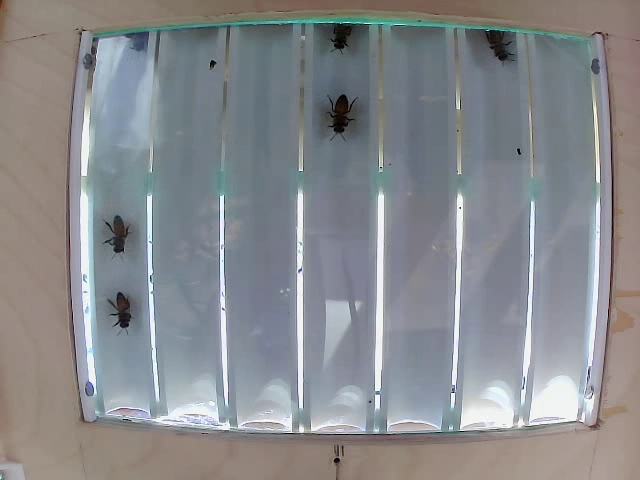bee: (103, 275, 143, 331), (324, 91, 356, 132), (104, 206, 132, 248)
